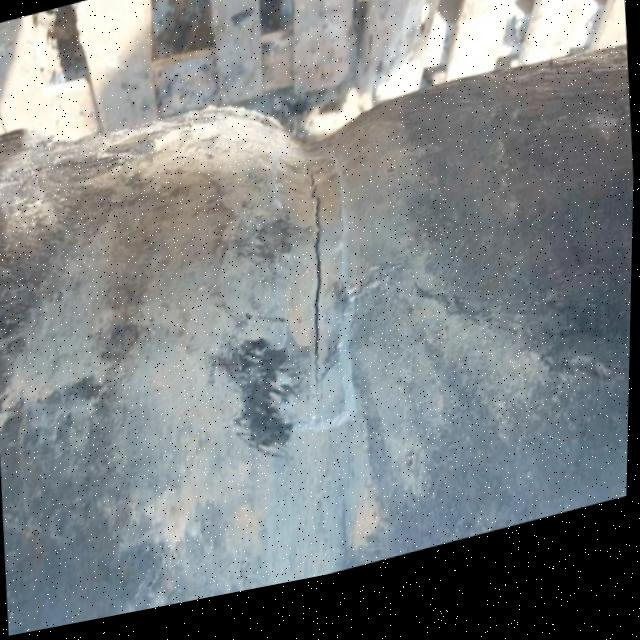crack: (301, 168, 331, 421)
